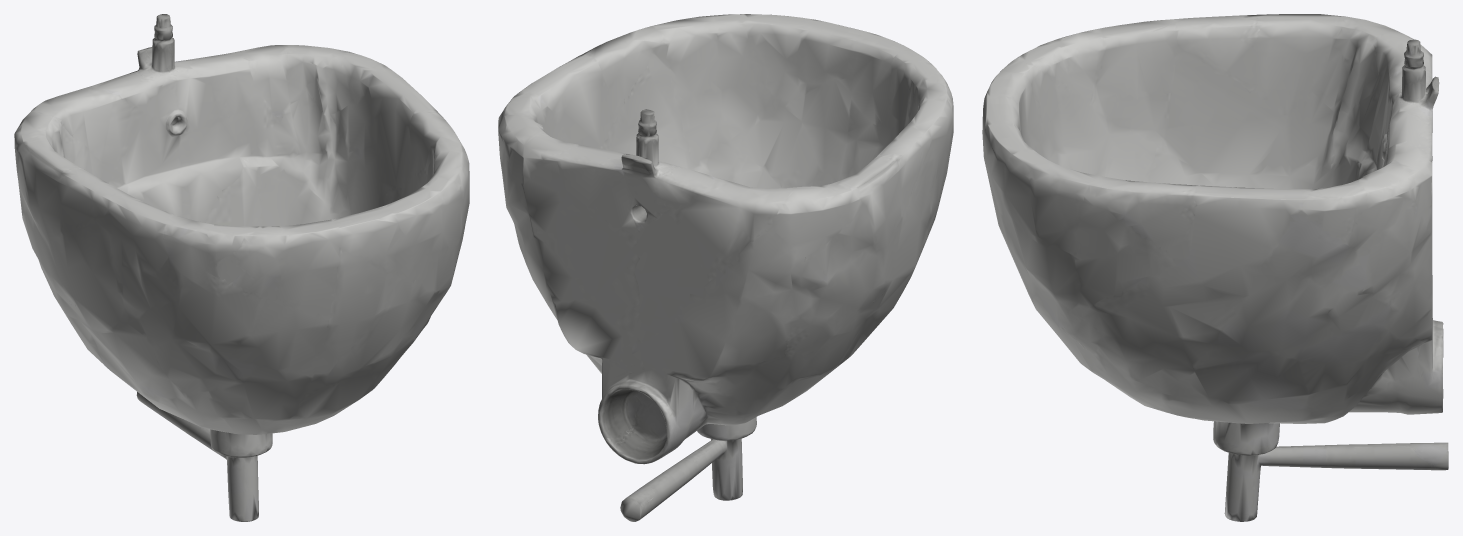
The model's file is toiletbowl.glb.
The picture shows the model from 3 angles, left to right: view 1: azimuth 30°, elevation 25°; view 2: azimuth 150°, elevation 25°; view 3: azimuth 270°, elevation 25°; orthographic projection. The views are drawn at different scales.
Parts seen in each view (by area): view 1: mesh_node; view 2: mesh_node; view 3: mesh_node.
Part boxes in pixels (left/top/right/bottom): mesh_node: left=14, top=14, right=469, bottom=521; mesh_node: left=498, top=14, right=953, bottom=521; mesh_node: left=982, top=14, right=1448, bottom=521.
Bounding box in the file's own units: 1.63 × 1.9 × 1.69.
1 material, 1 textured.
